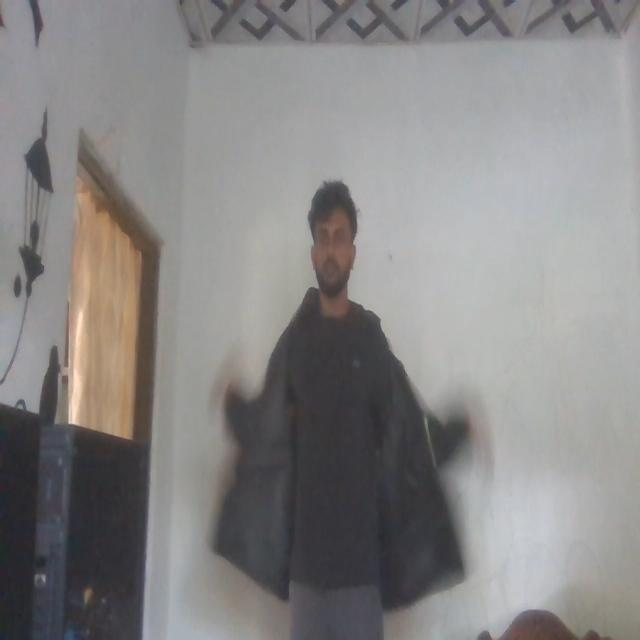Jacket_Wearer: (210, 318, 463, 591)
Person: (239, 182, 429, 640)
